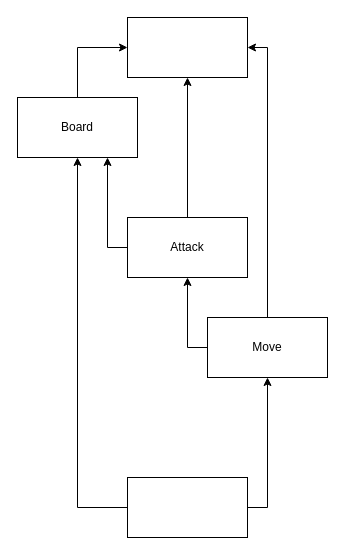
Some shapes in this 345 by 555 pixel diagram are drawn without their labels. Here are the shapes that lost their labels. From the top down, the box of each, then its label:
(126, 16, 248, 78): Notation
(126, 476, 248, 538): Main
